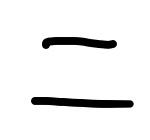eqv: (31, 37, 134, 108)
